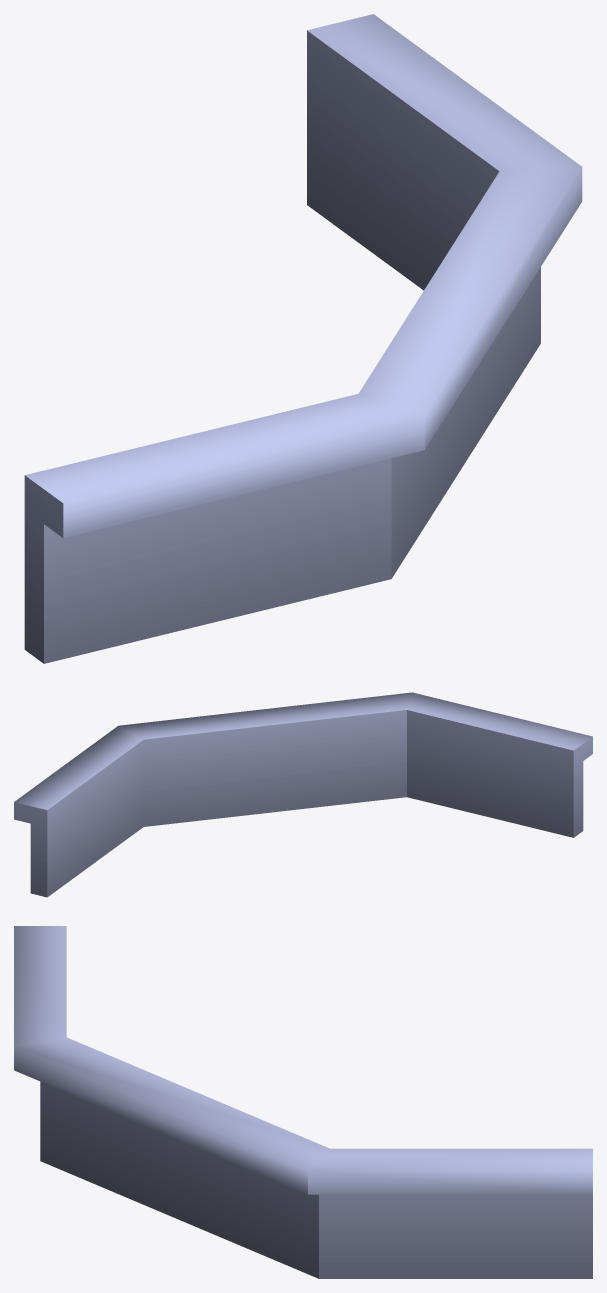
The model's file is building_border_high_corner_d.glb.
The picture shows the model from 3 angles, top to bottom: view 1: azimuth 30°, elevation 25°; view 2: azimuth 150°, elevation 25°; view 3: azimuth 270°, elevation 25°; orthographic projection. The views are drawn at different scales.
Parts seen in each view (by area): view 1: border-high-corner-diagonal; view 2: border-high-corner-diagonal; view 3: border-high-corner-diagonal.
Part boxes in pixels (left/top/right/bottom): border-high-corner-diagonal: left=24, top=14, right=582, bottom=663; border-high-corner-diagonal: left=14, top=692, right=592, bottom=897; border-high-corner-diagonal: left=14, top=926, right=592, bottom=1278.
Size of the model in its own units: 2.2 by 0.5 by 2.2.
Materials: 1 (1 with a texture image).
